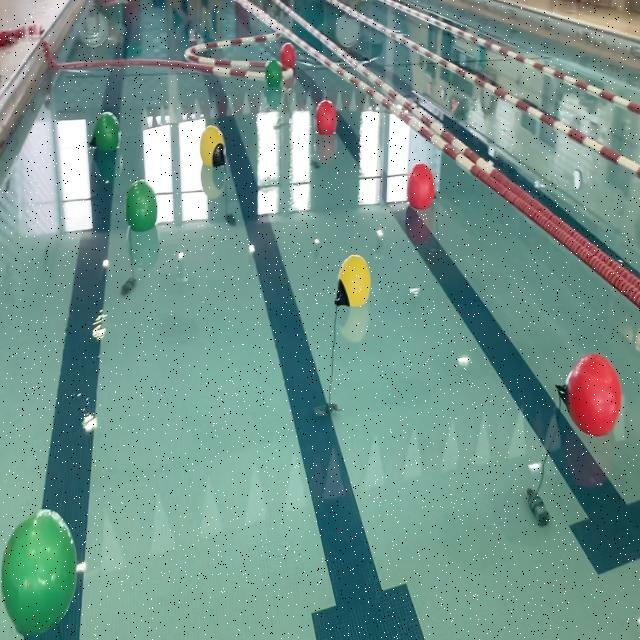buoy: (1, 506, 79, 640), (556, 354, 622, 438), (336, 253, 371, 310), (125, 178, 158, 233), (406, 163, 434, 211), (90, 112, 121, 154), (200, 124, 228, 170), (314, 99, 336, 137), (264, 57, 282, 88), (280, 43, 296, 69)
